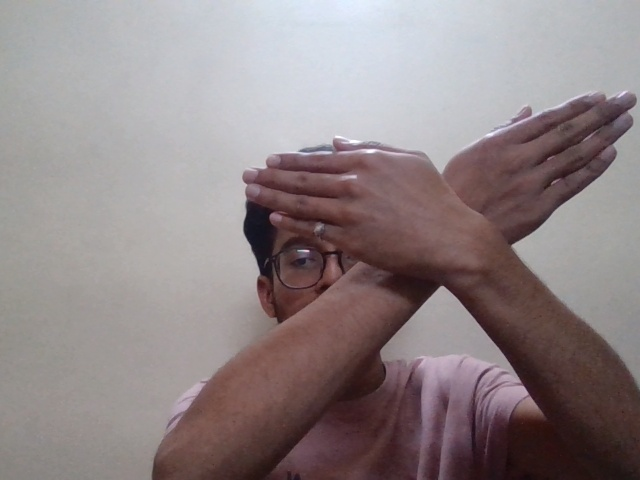feel: (241, 81, 639, 309)
